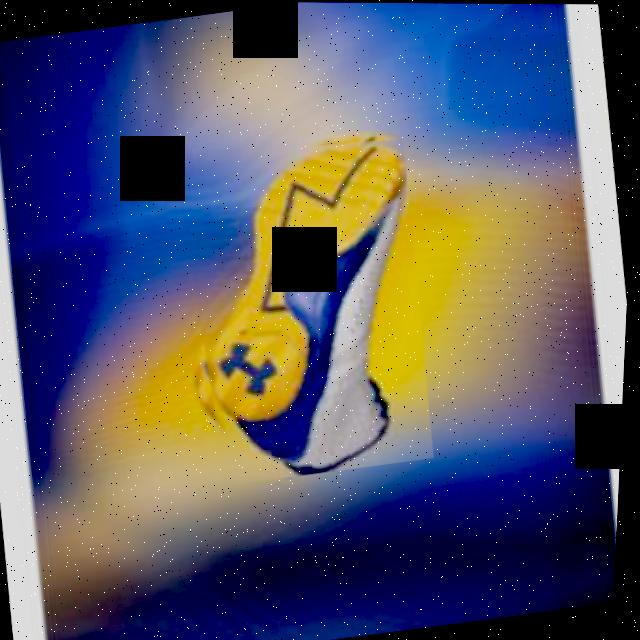shoe: (163, 125, 450, 490)
